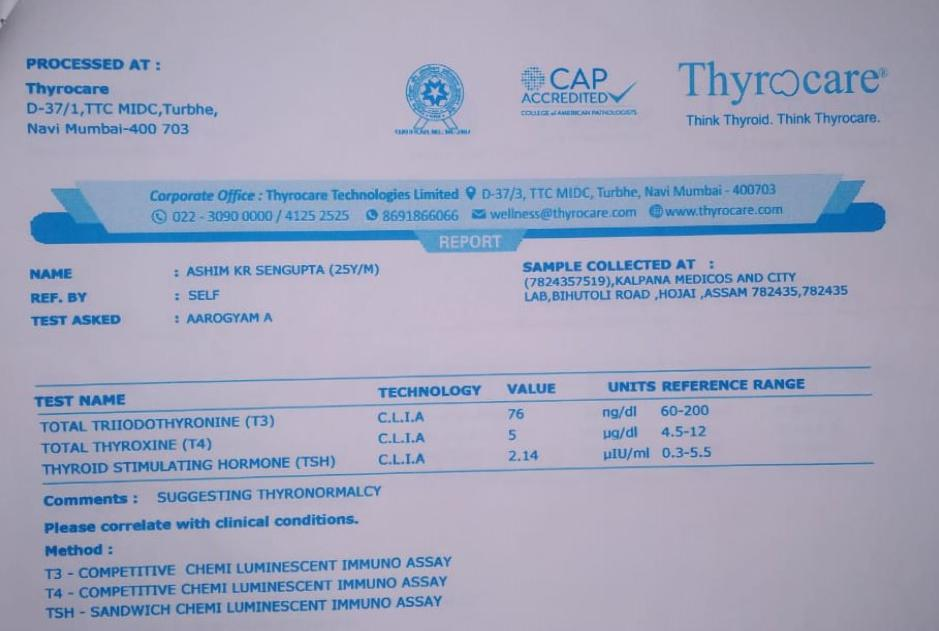Reference Range: (656, 398, 717, 467)
Test Name: (34, 410, 343, 482)
Units: (597, 399, 657, 468)
Value: (499, 401, 545, 470)
